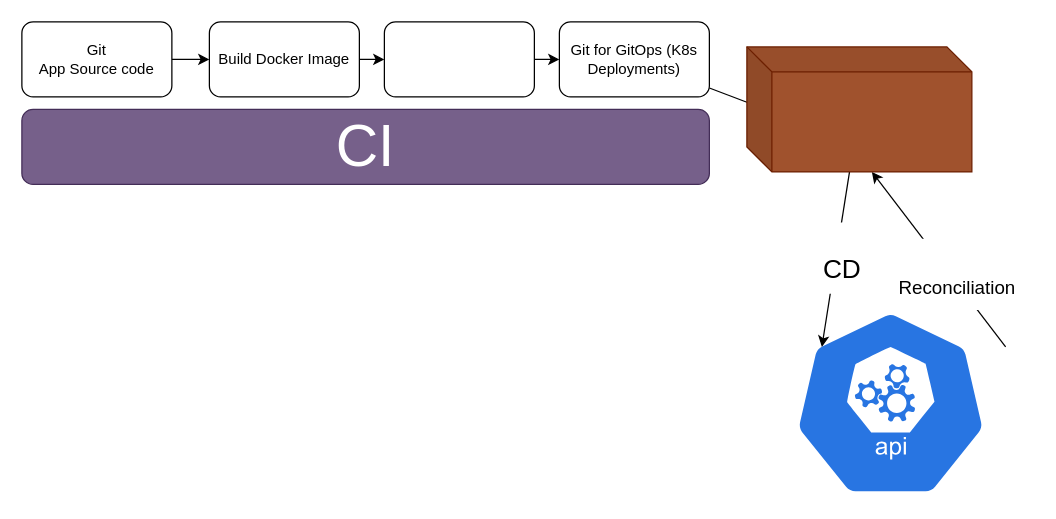
The diagram is 1056 pixels wide and 519 high, and some of its shapes have lost their labels. Each missing label, with the centre of its shape:
"GitOps" belongs at (859,109).
"Push Image to registry" belongs at (458,59).
